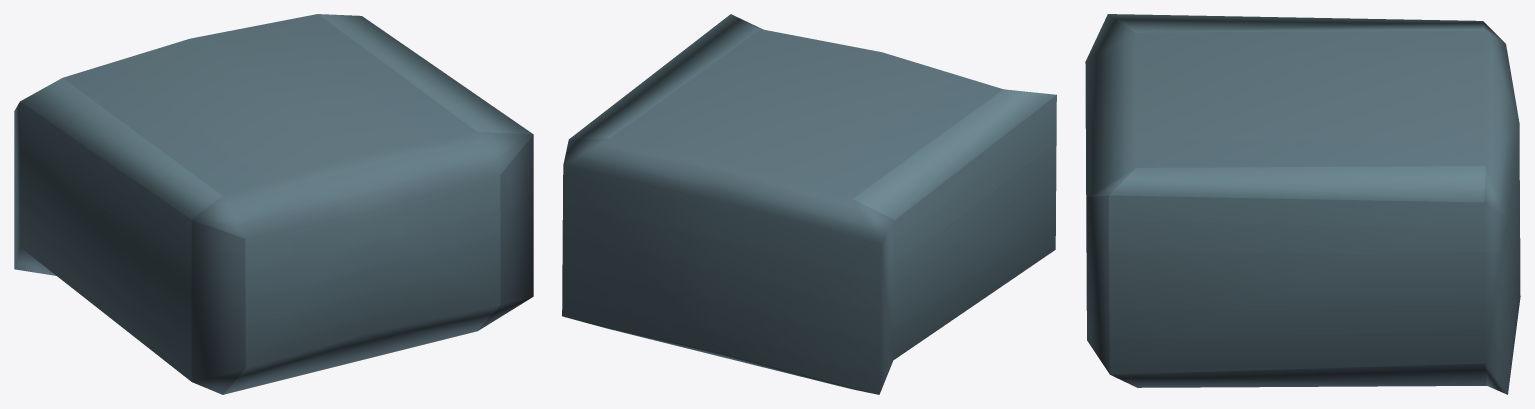
Rendered from Modular_Dungeon_Loose_Brick3.fbx.
3 views of the same model, side by side, from view 1: azimuth 30°, elevation 25°; view 2: azimuth 150°, elevation 25°; view 3: azimuth 270°, elevation 25° (orthographic). The views are drawn at different scales.
Visible parts, largest first — view 1: Loose_Brick3; view 2: Loose_Brick3; view 3: Loose_Brick3.
Part boxes in pixels (<box>): Loose_Brick3: <box>14,14,533,394</box>; Loose_Brick3: <box>562,14,1056,394</box>; Loose_Brick3: <box>1085,14,1520,394</box>.
Size of the model in its own units: 1.24 by 0.7218 by 1.24.
Materials: 1 (1 with a texture image).
